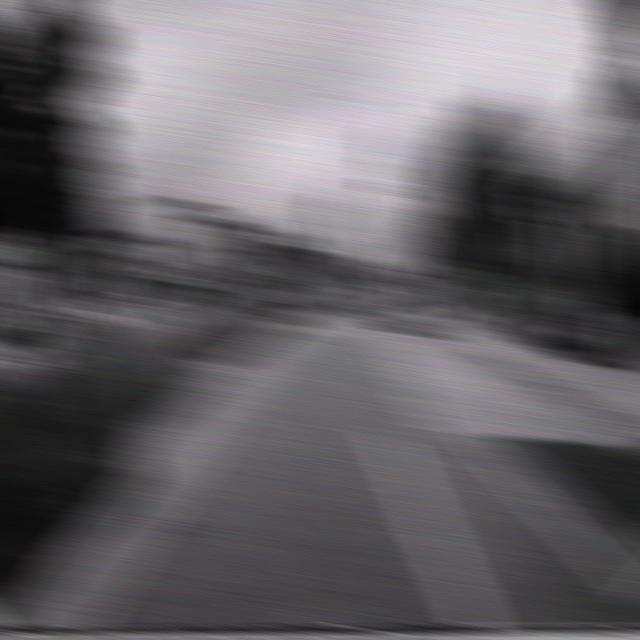pedestrianCrossing: (386, 238, 426, 272)
